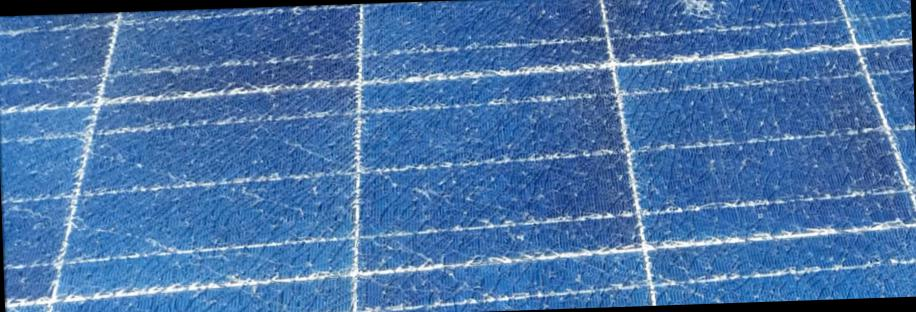Crack: (673, 0, 733, 31)
